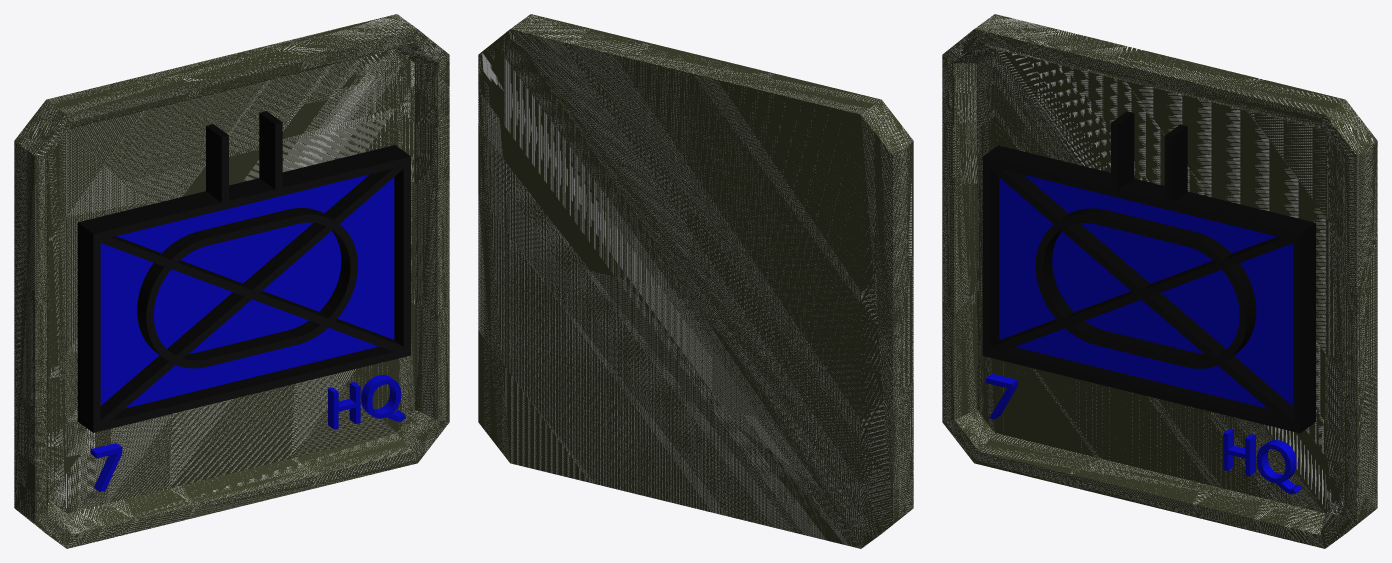
The model's file is Button_ORBAT_HQ.obj.
3 views of the same model, side by side, from view 1: azimuth 30°, elevation 25°; view 2: azimuth 150°, elevation 25°; view 3: azimuth 330°, elevation 25° (orthographic).
Visible parts, largest first — view 1: SketchUp.001, SM_ORBAT - HQ, SketchUp; view 2: SketchUp; view 3: SketchUp.001, SM_ORBAT - HQ, SketchUp.
Part boxes in pixels (left/top/right/bottom): SketchUp.001: left=47, top=43, right=437, bottom=534; SM_ORBAT - HQ: left=77, top=111, right=410, bottom=491; SketchUp: left=14, top=14, right=449, bottom=548; SketchUp: left=478, top=14, right=913, bottom=548; SketchUp.001: left=954, top=43, right=1344, bottom=534; SM_ORBAT - HQ: left=982, top=111, right=1315, bottom=494; SketchUp: left=942, top=14, right=1377, bottom=548.
Bounding box in the file's own units: 1 × 1 × 0.1239.
